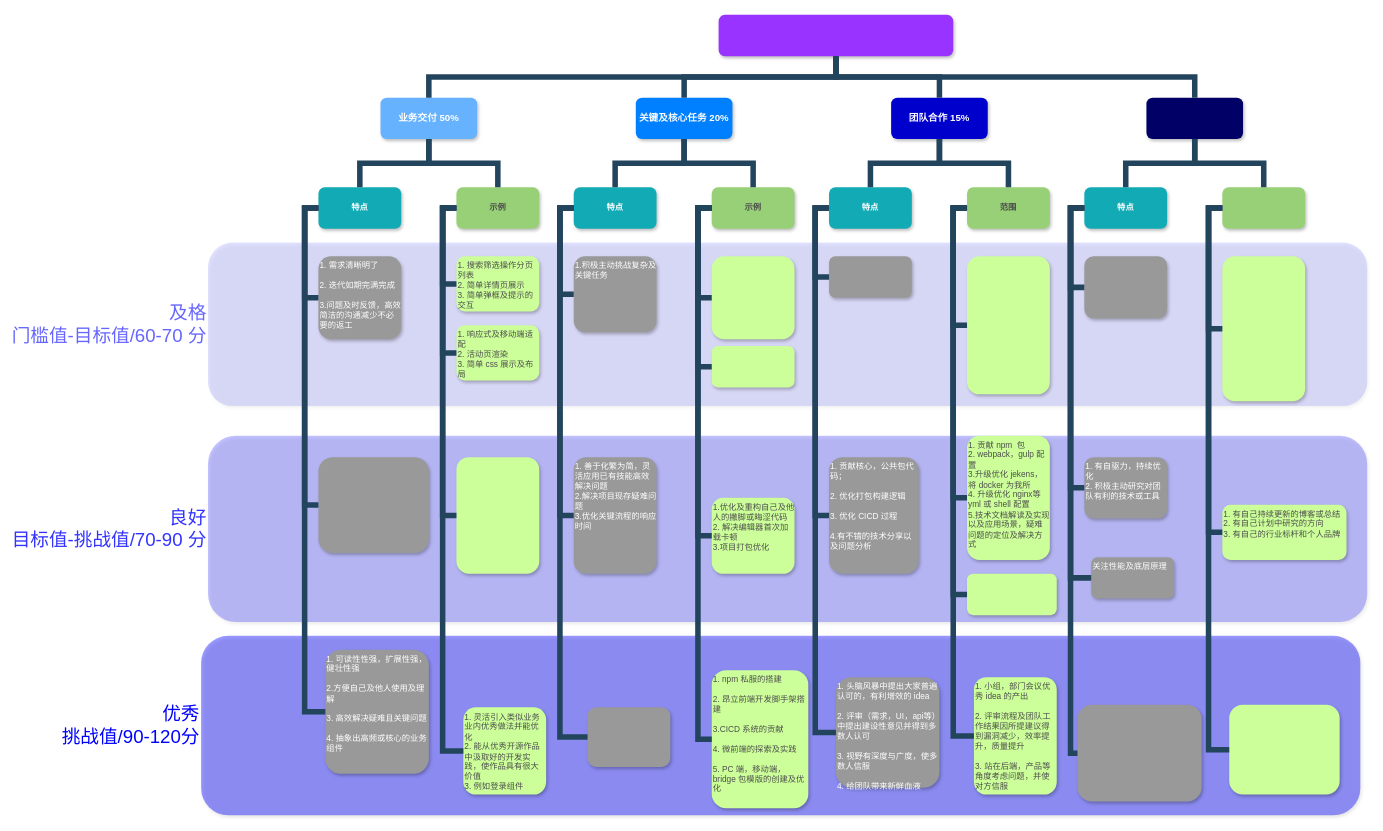
The diagram is 1383 pixels wide and 831 high, and some of its shapes have lost their labels. Here are the shapes that lost their labels. From the top down, the centre of each, then its label:
At (x=836, y=36): "绩效指标".
At (x=1195, y=119): "个人发展 15%".
At (x=1264, y=208): "内容".
At (x=871, y=277): "1. 沟通有效 2. 解决问题有效".
At (x=1126, y=288): "1. 在约束下提升自己 2. 掌握工具，能熟练应用".
At (x=753, y=298): "1. OS：日程，档期组件的开发 2. CMS：编辑器集成，出题组卷 3. CRM：座机呼叫，订单交互 4. OCR".
At (x=1009, y=326): "1. 指出PRD，API，UI，QA 文档中的不合理之处，并给出解决方案 2. 同理心基础：具备所沟通对象的知识体系，并对其提出良好建议".
At (x=1264, y=329): "1. eslint/commit-lint/husky 及代码 reviewer 者提出的合理建议 2. 不滥用 any，不滥用 各种 ignore".
At (x=753, y=367): "1. 在线答题".
At (x=374, y=506): "1. 代码优雅规范 2. 逻辑及思路清晰 3. 化繁为简，模块清晰独立 4.考虑用户体验，实现友好交互".
At (x=498, y=516): "1. 单组件，单方法简约清晰 2. 公共模块的抽离 3. DRY：write less，do more 4.添加动画效果平滑过渡，良好的交互反馈".
At (x=1012, y=595): "1. 制定跳一跳能实现的 OKR，并能实现至少 8 成".
At (x=629, y=737): "1. 借助所熟悉的合适工具，举一反三解决问题 2. 开发专门工具高效解决问题".
At (x=1139, y=754): "1. 积极主动分享技术并给业务赋能 2. 建立个人技术口碑".
At (x=1284, y=750): "1. 在行业内打造自己的影响力，如在 StackOverflow，GitHub上建立自己可以量化的行业指标".
